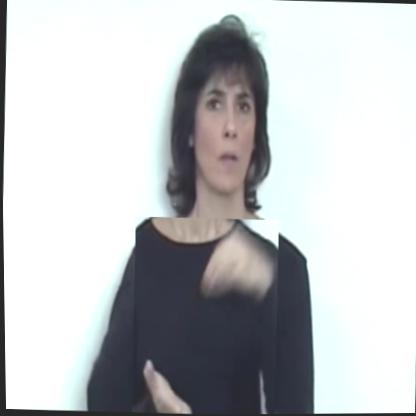Expensive: (128, 215, 280, 415)
